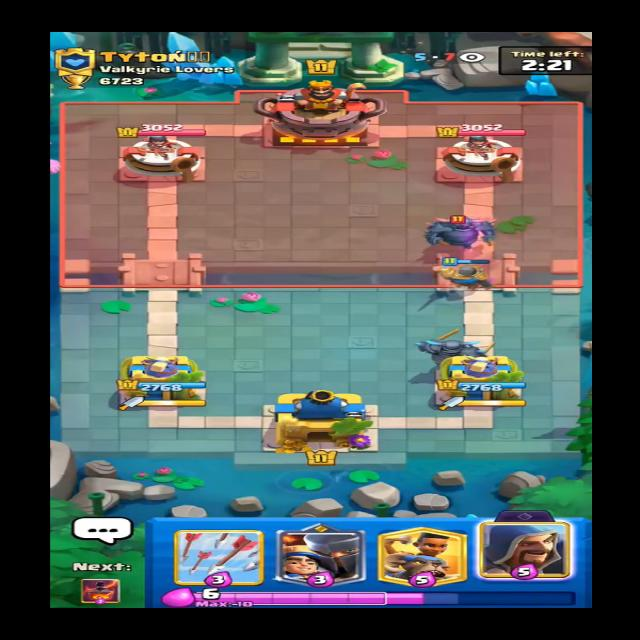pekka: (417, 208, 499, 248)
